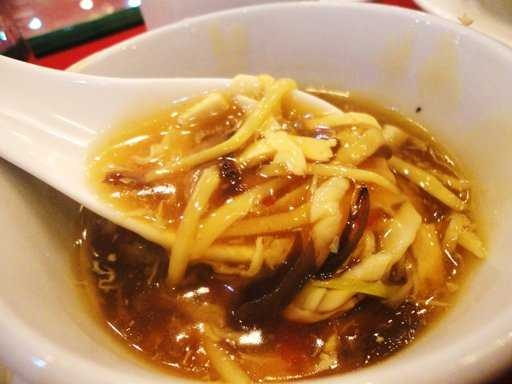soup: (1, 27, 496, 367)
